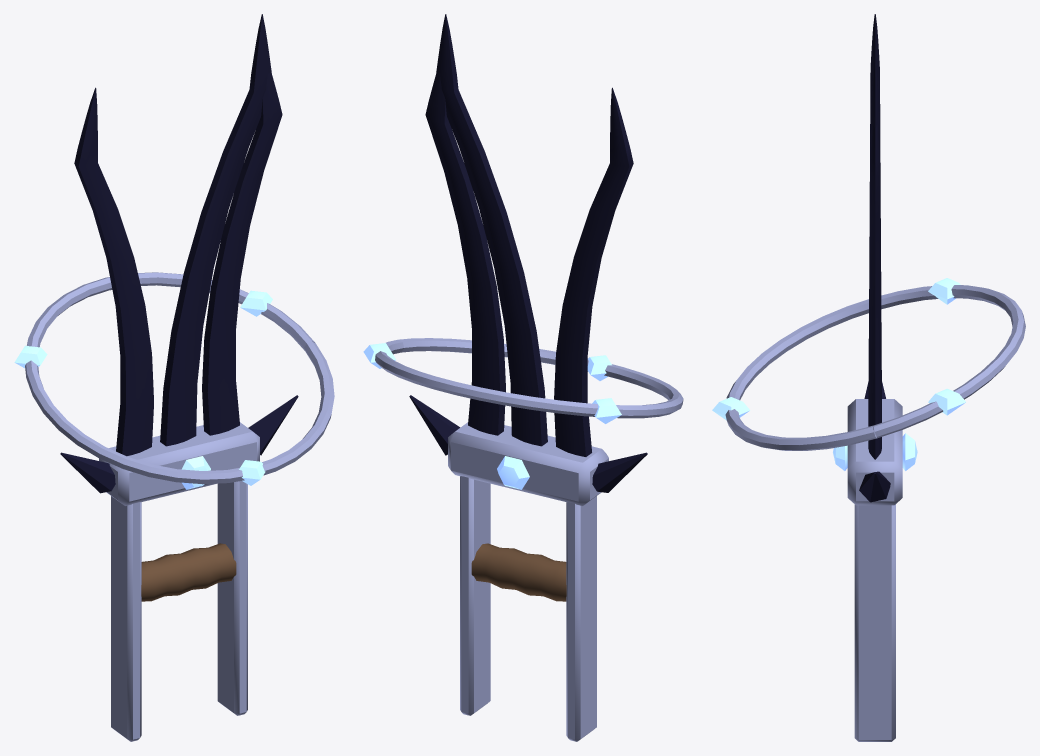
File: asc_starless_stalker_weapon.glb
3 renders of one model, left to right at view 1: azimuth 30°, elevation 25°; view 2: azimuth 150°, elevation 25°; view 3: azimuth 270°, elevation 25°, orthographic.
Visible parts, largest first — view 1: asc_starless_stalker_weapon; view 2: asc_starless_stalker_weapon; view 3: asc_starless_stalker_weapon.
Boxes of the visible parts, x1,y1,x2,y2 form: asc_starless_stalker_weapon: [14, 14, 334, 741]; asc_starless_stalker_weapon: [363, 14, 683, 741]; asc_starless_stalker_weapon: [712, 14, 1025, 741].
Bounding box in the file's own units: 0.229 × 0.555 × 0.2282.
